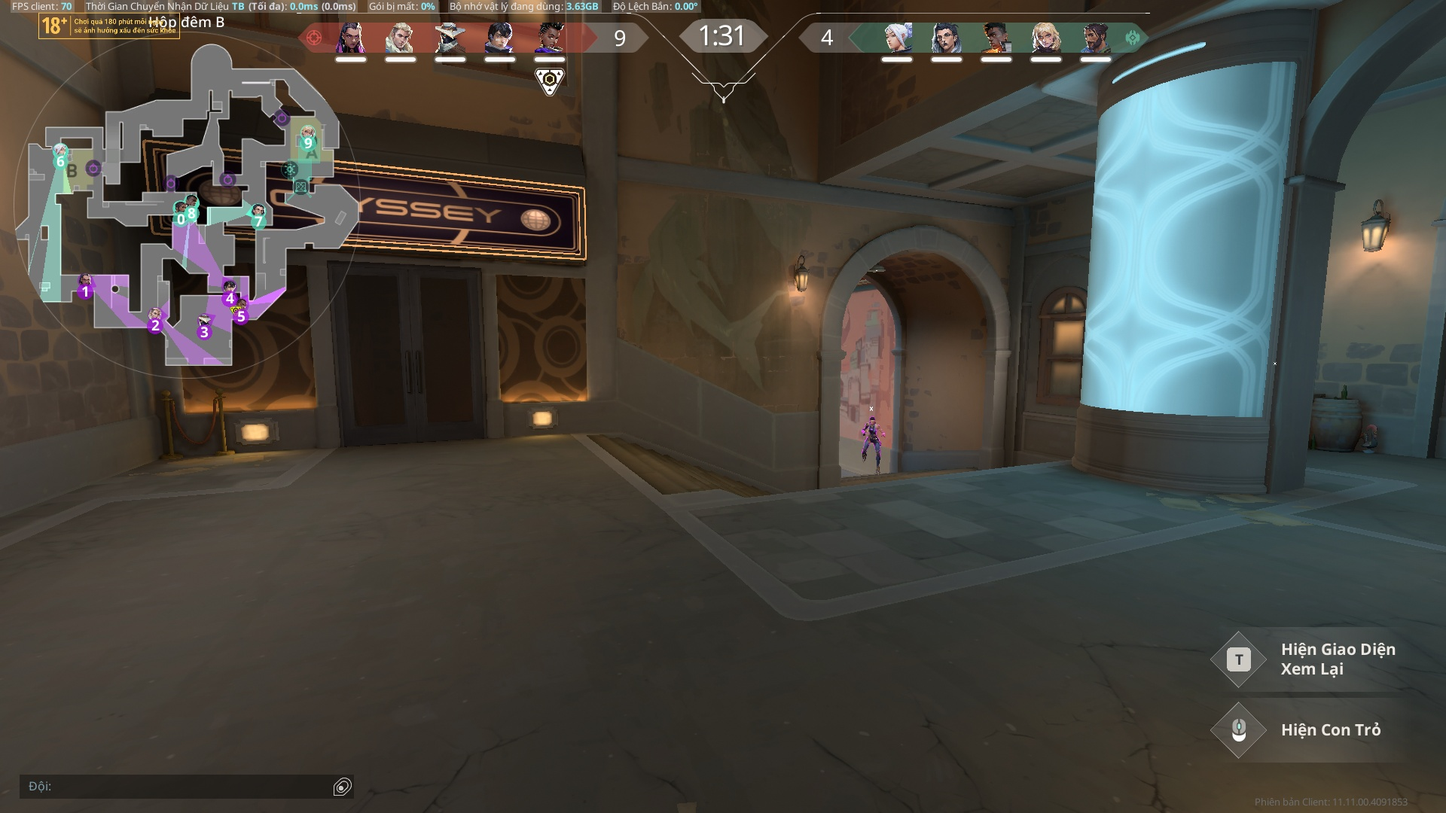body: (866, 422, 880, 437)
head: (868, 416, 876, 425)
